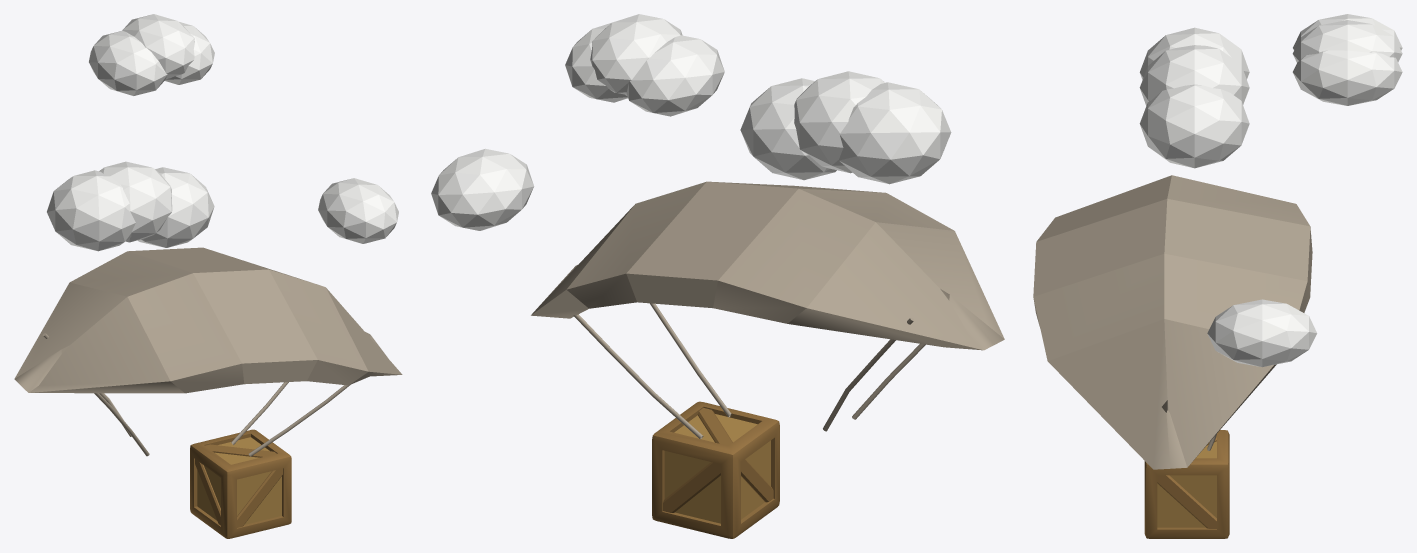
The model's file is airdrop.glb.
3 views of the same model, side by side, from view 1: azimuth 30°, elevation 25°; view 2: azimuth 150°, elevation 25°; view 3: azimuth 270°, elevation 25° (orthographic). The views are drawn at different scales.
Visible parts, largest first — view 1: Tube001, Cube_Crate; view 2: Tube001, Cube_Crate; view 3: Tube001, Cube_Crate.
Part boxes in pixels (x1,y1,x2,y2): Tube001: (14, 14, 402, 456); Cube_Crate: (190, 429, 291, 538); Tube001: (431, 14, 1004, 438); Cube_Crate: (652, 401, 779, 538); Tube001: (1033, 14, 1402, 469); Cube_Crate: (1144, 430, 1229, 538).
Bounding box in the file's own units: 12.18 × 12.89 × 8.75.
